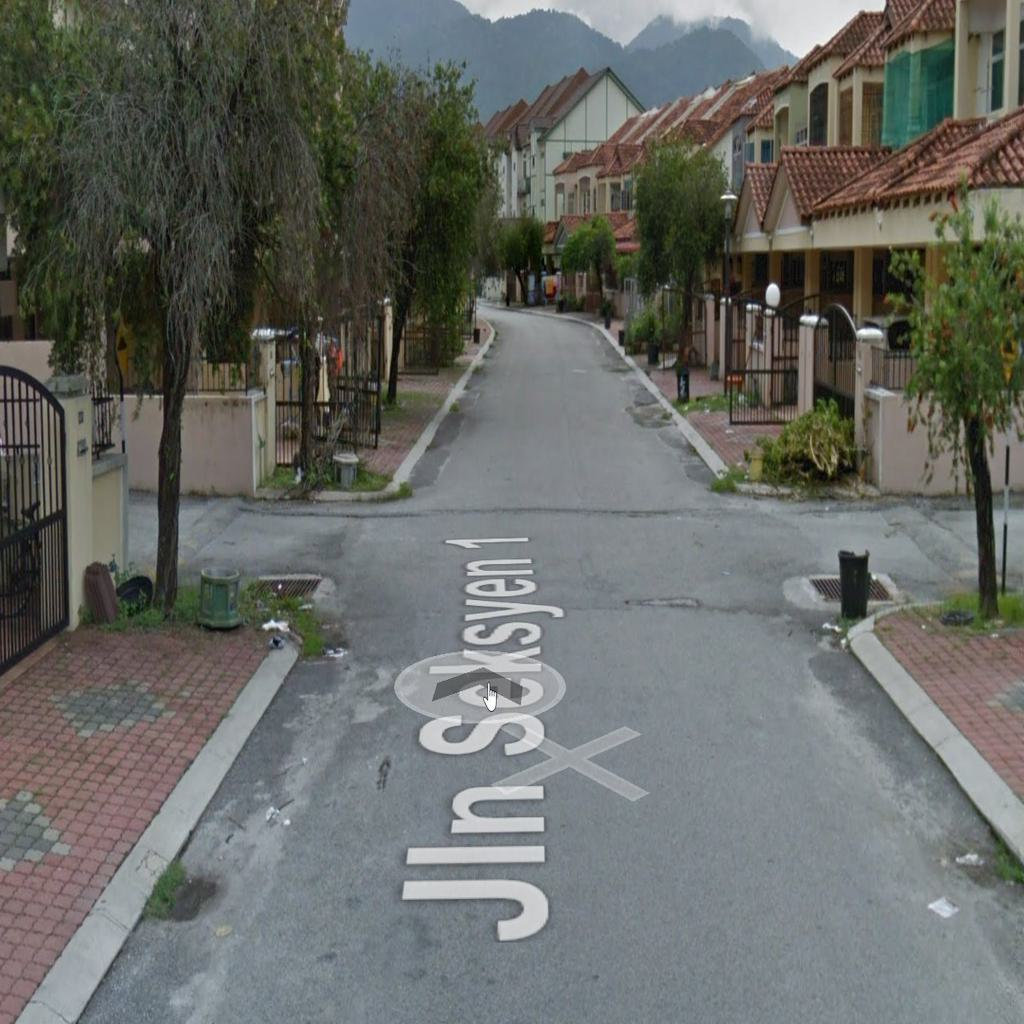Junction: (685, 459, 1011, 654), (127, 450, 432, 646)
